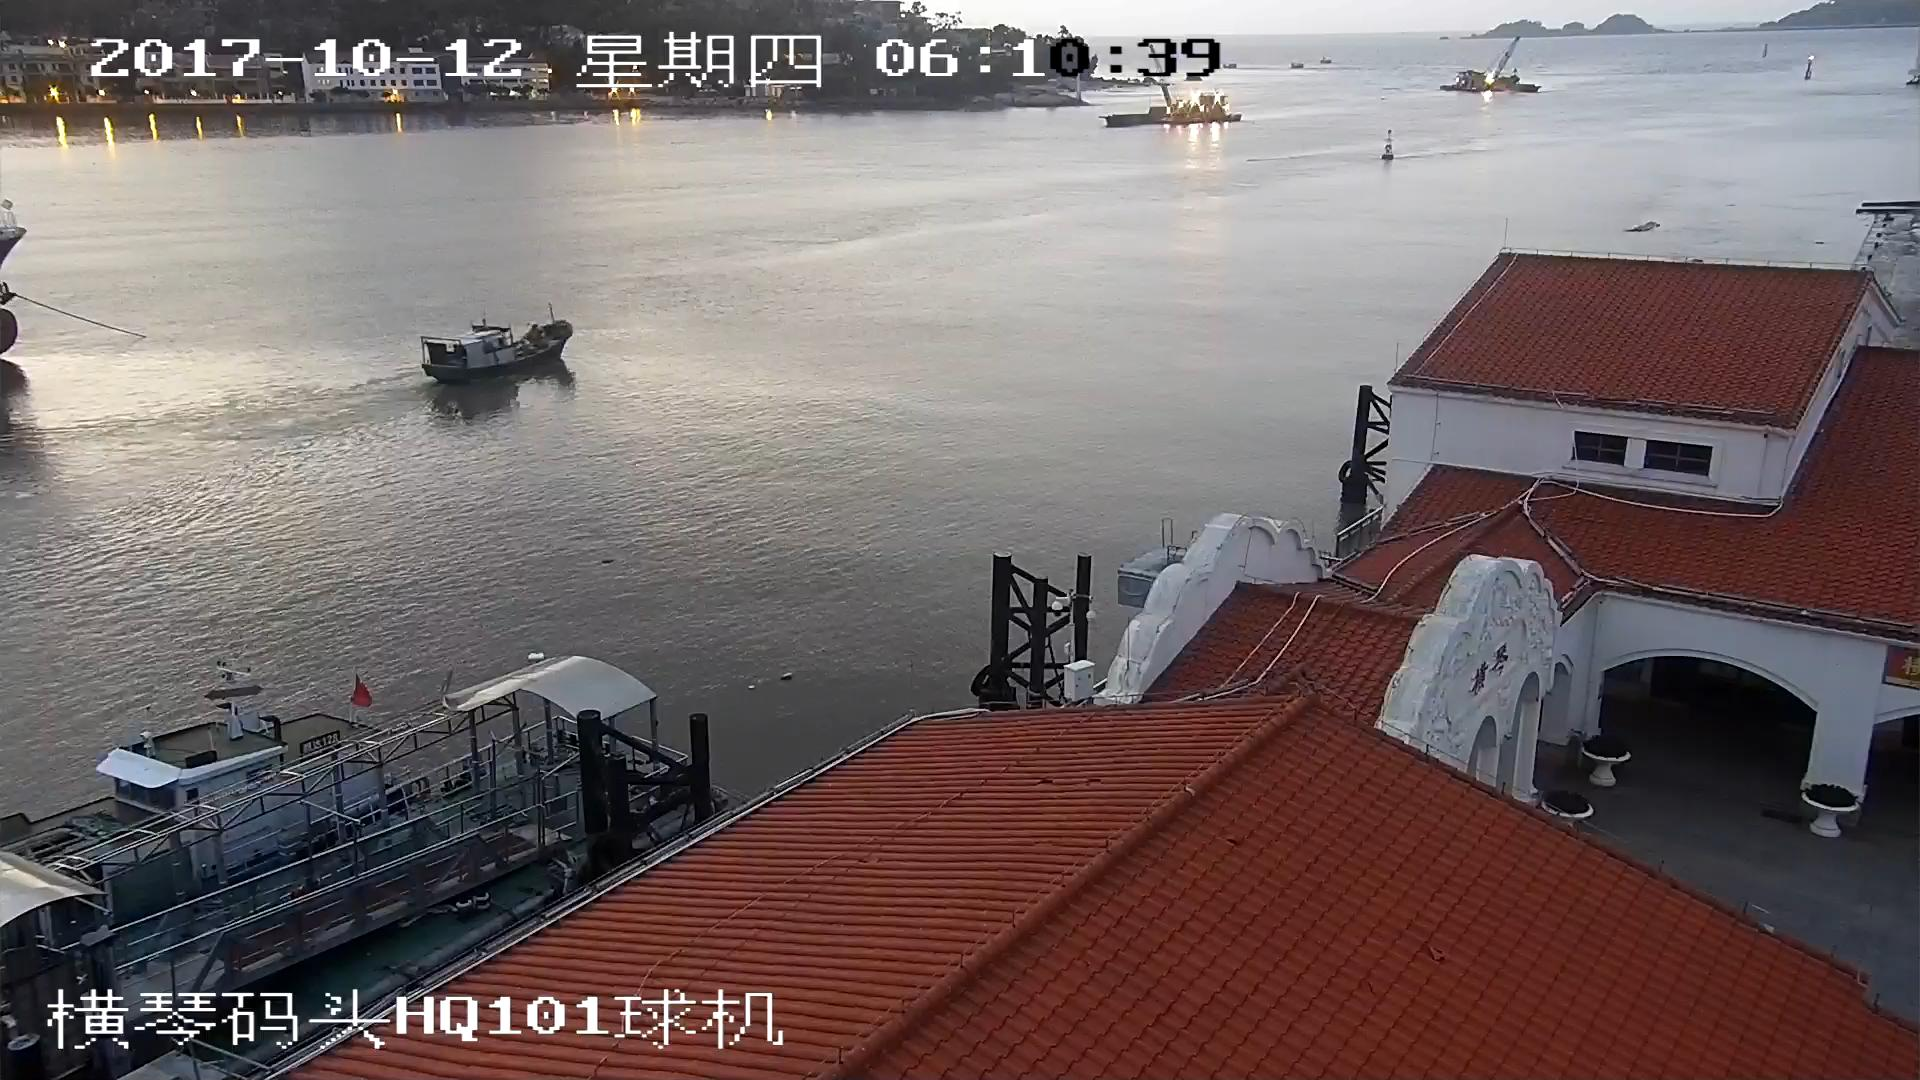fishing boat: (423, 320, 575, 374)
